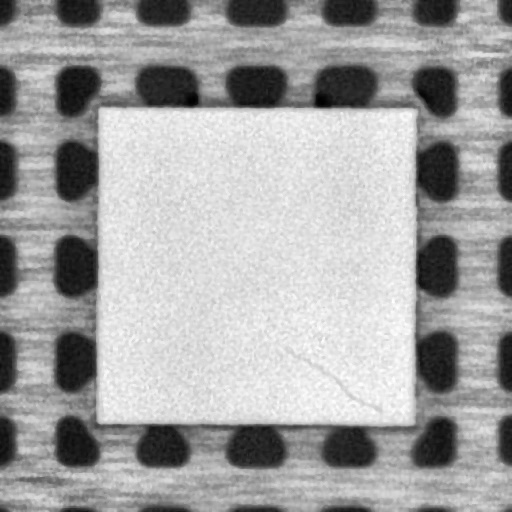DIE_CRACK: (282, 346, 382, 415)
